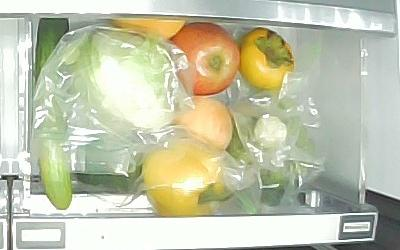apple: (168, 22, 240, 96)
broccoli_vinyl: (230, 100, 323, 206)
cucumber: (34, 18, 76, 211)
grapefruit: (144, 138, 228, 217)
lettuce_vinyl: (77, 29, 183, 135)
paprika_vinyl: (74, 140, 143, 194)
peach: (174, 96, 232, 150)
persimmon: (238, 28, 297, 90)
